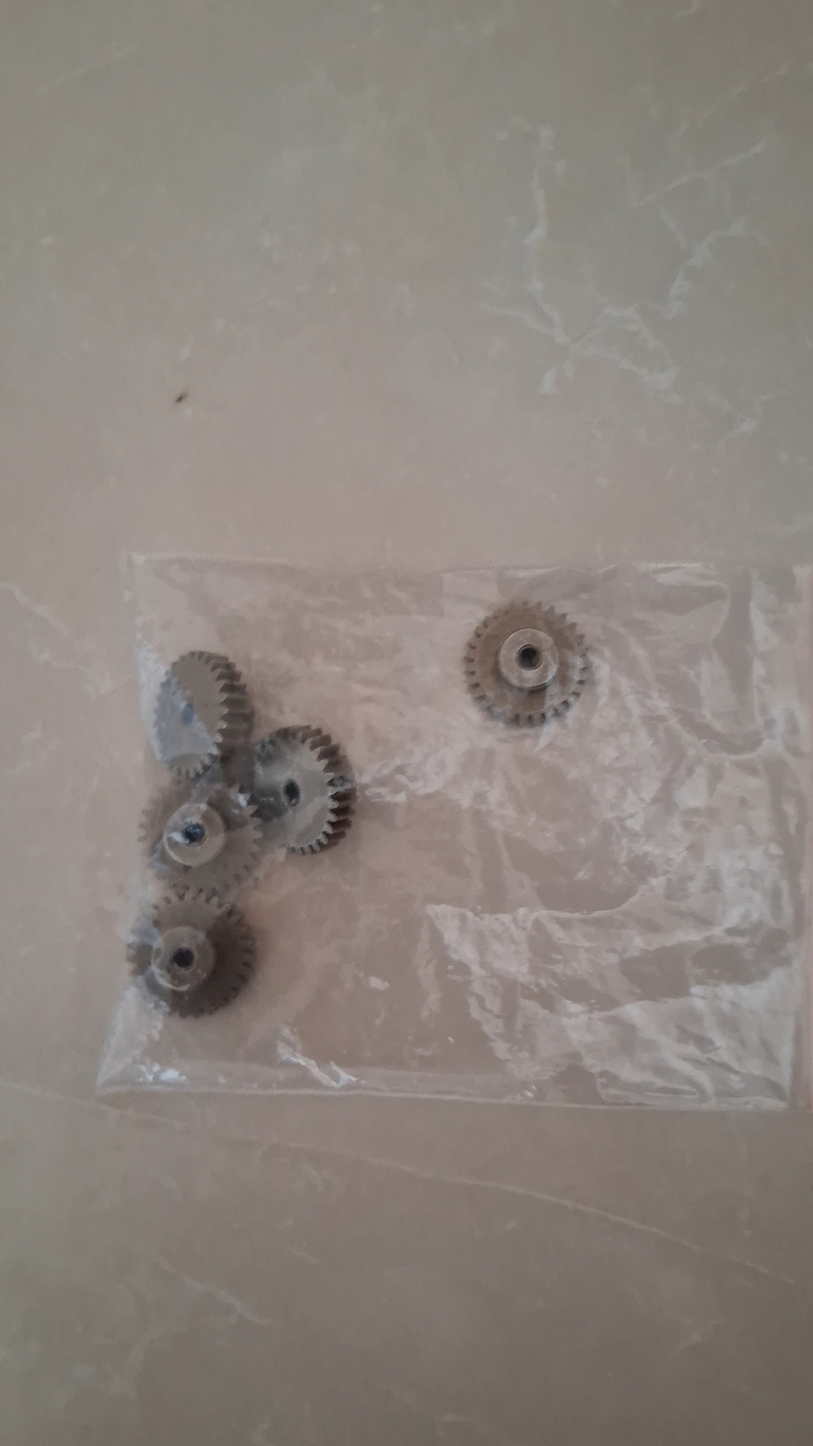spur gear: (128, 891, 255, 1016), (464, 601, 588, 725), (140, 777, 262, 901), (250, 726, 355, 854), (154, 652, 251, 779)
